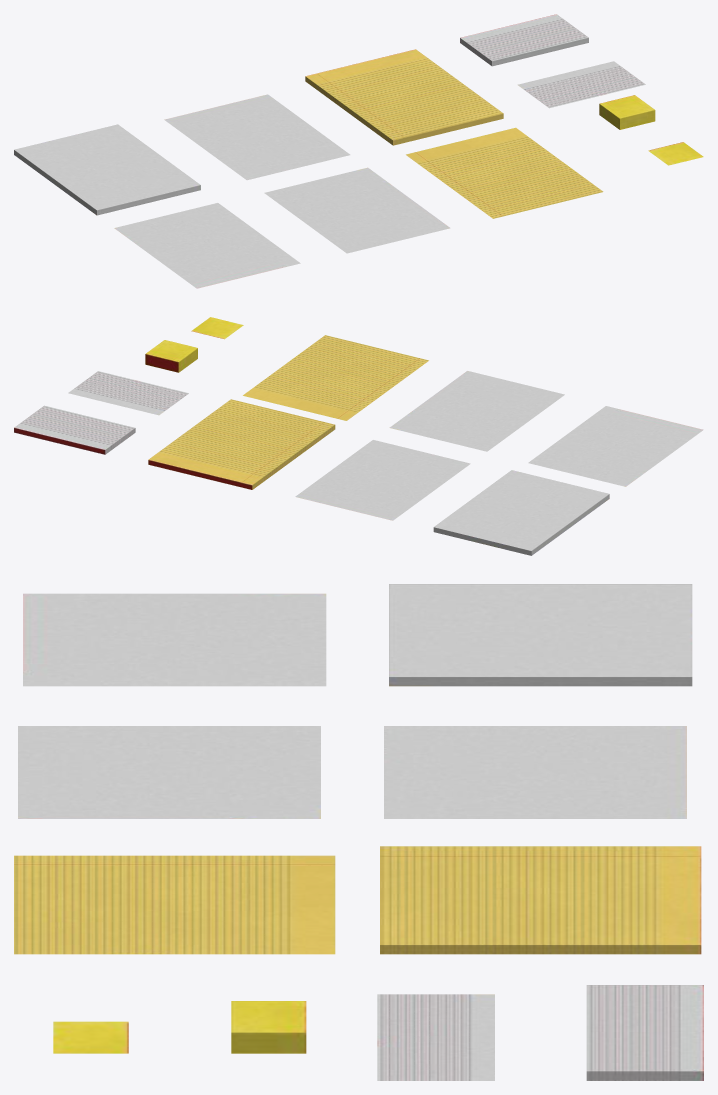
File: office_notepads.glb
3 views of the same model, one above another, from view 1: azimuth 30°, elevation 25°; view 2: azimuth 150°, elevation 25°; view 3: azimuth 270°, elevation 25° (orthographic). The views are drawn at different scales.
Parts seen in each view (by area): view 1: office_notepads_yellow_sheet; view 2: office_notepads_yellow_sheet; view 3: office_notepads_yellow_sheet.
Boxes of the visible parts, left/top/right/bottom form: office_notepads_yellow_sheet: left=14, top=14, right=703, bottom=288; office_notepads_yellow_sheet: left=14, top=317, right=703, bottom=555; office_notepads_yellow_sheet: left=14, top=584, right=703, bottom=1080.
Size of the model in its own units: 1.1 by 0.0219 by 0.6598.
Materials: 1 (1 with a texture image).
